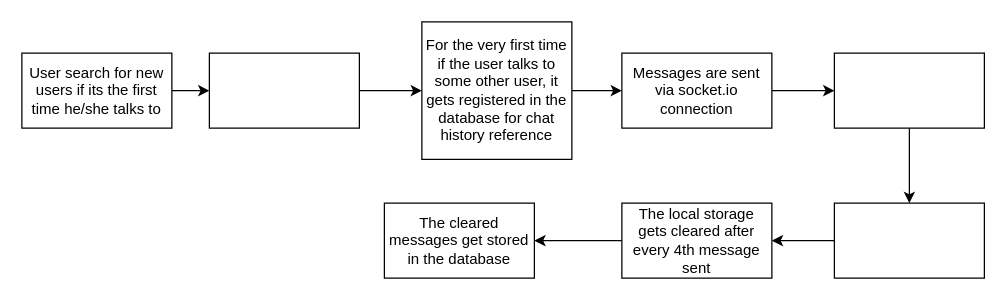
The diagram is 1006 pixels wide and 300 high, and some of its shapes have lost their labels. Here are the shapes that lost their labels. From the top down, the centre of each, then its label:
At (283,90): "If User is found then the conversation can start".
At (908,90): "The respective users receives messages".
At (908,240): "The message get stored temporarily stored in the local storage".
